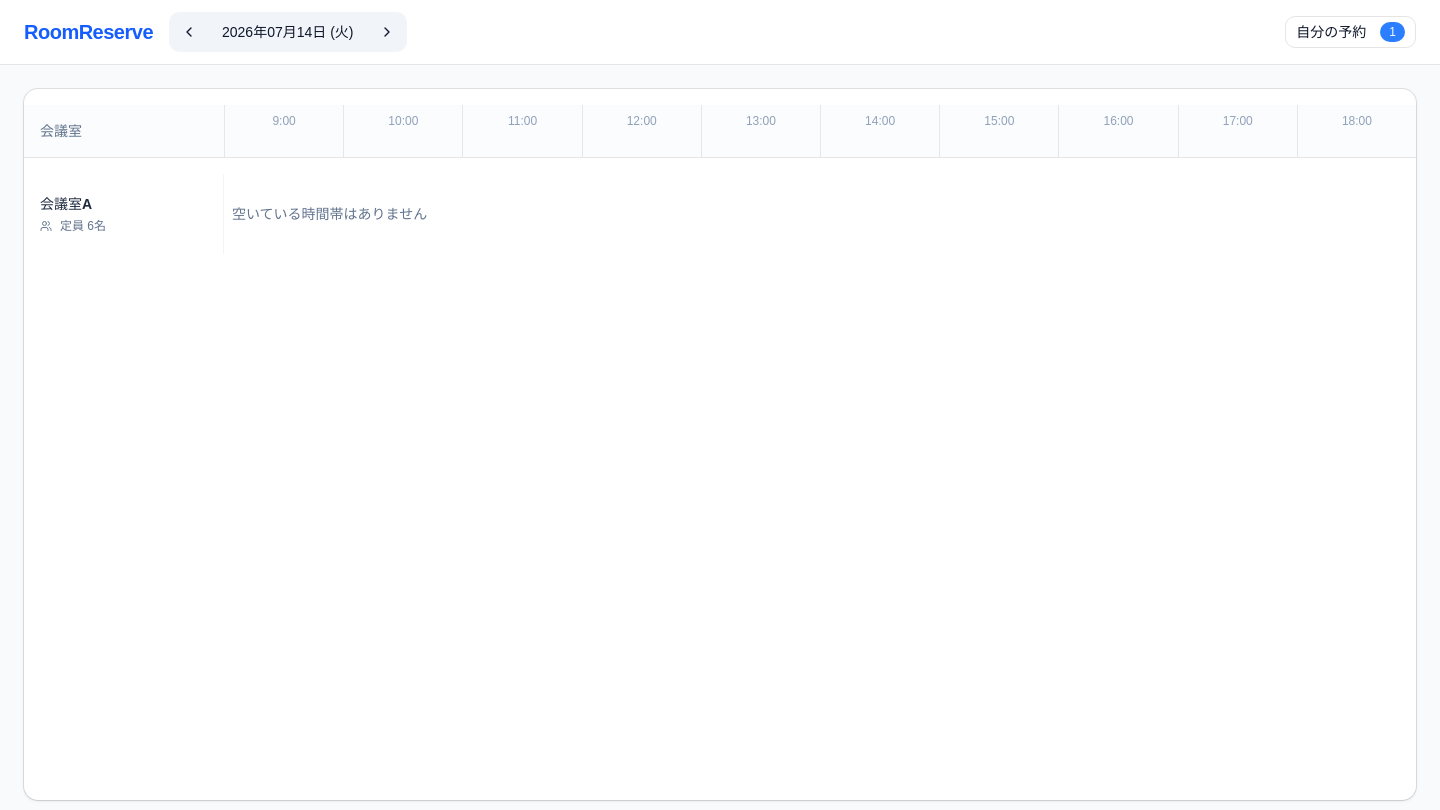
Test case: 自分の予約(RFE-C) › この端末で行った予約が一覧に表示される
What coordinates should you click on to do the following:
click the button "自分の予約 1"
I would click on:
 (1351, 32)
Its box is [1285,16,1416,48].
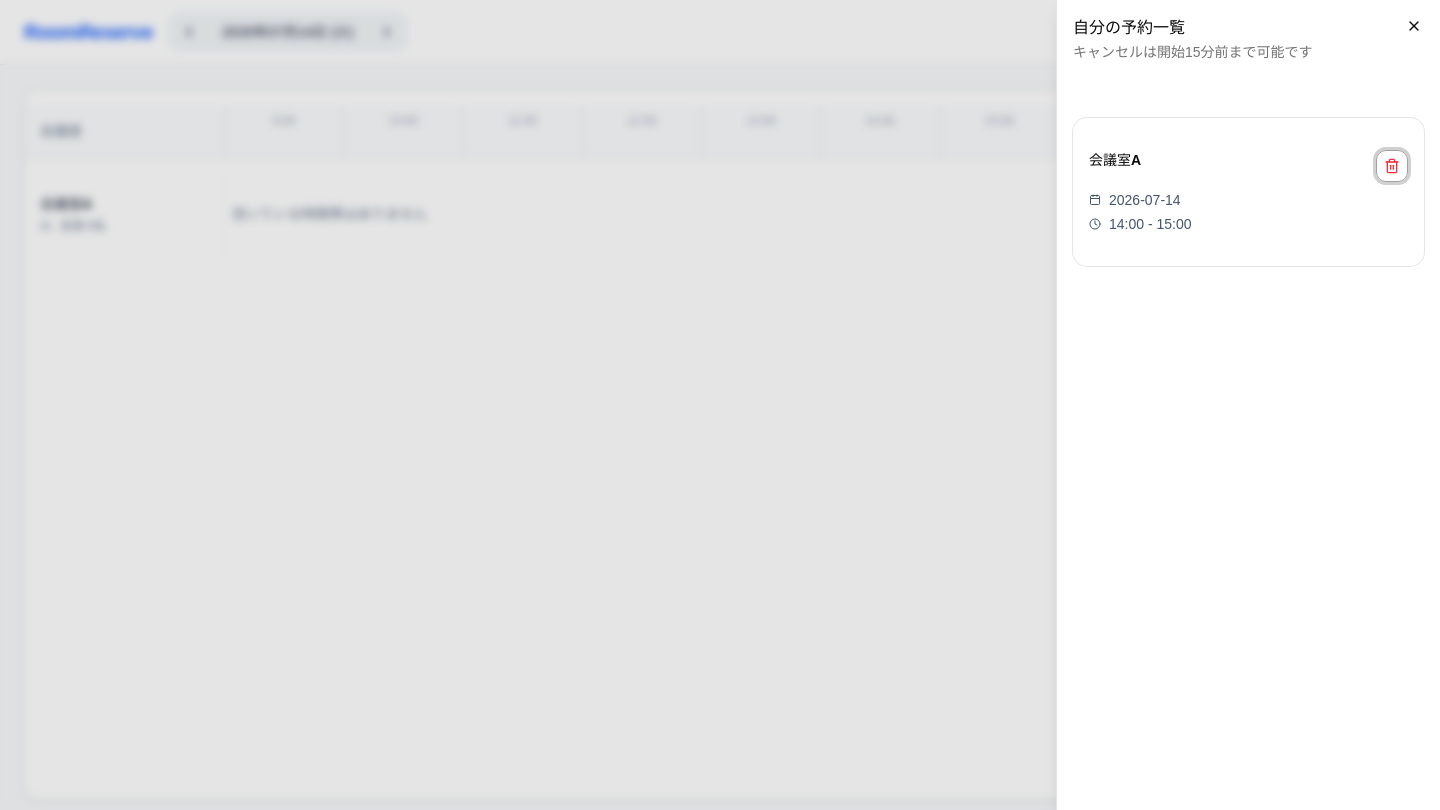
Check: the text "会議室A" is shown, box [1089,150,1141,170]
Check: the text "2026-07-14" is shown, box [1089,192,1181,208]
Check: the text "14:00 - 15:00" is shown, box [1089,216,1192,232]
